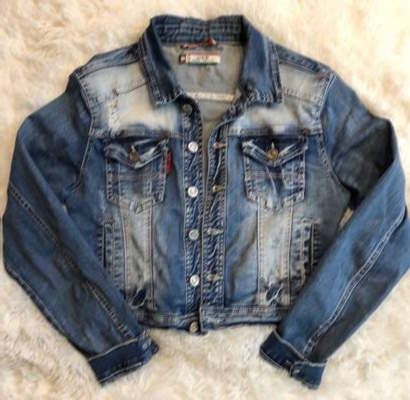Blazer: (4, 16, 409, 377)
